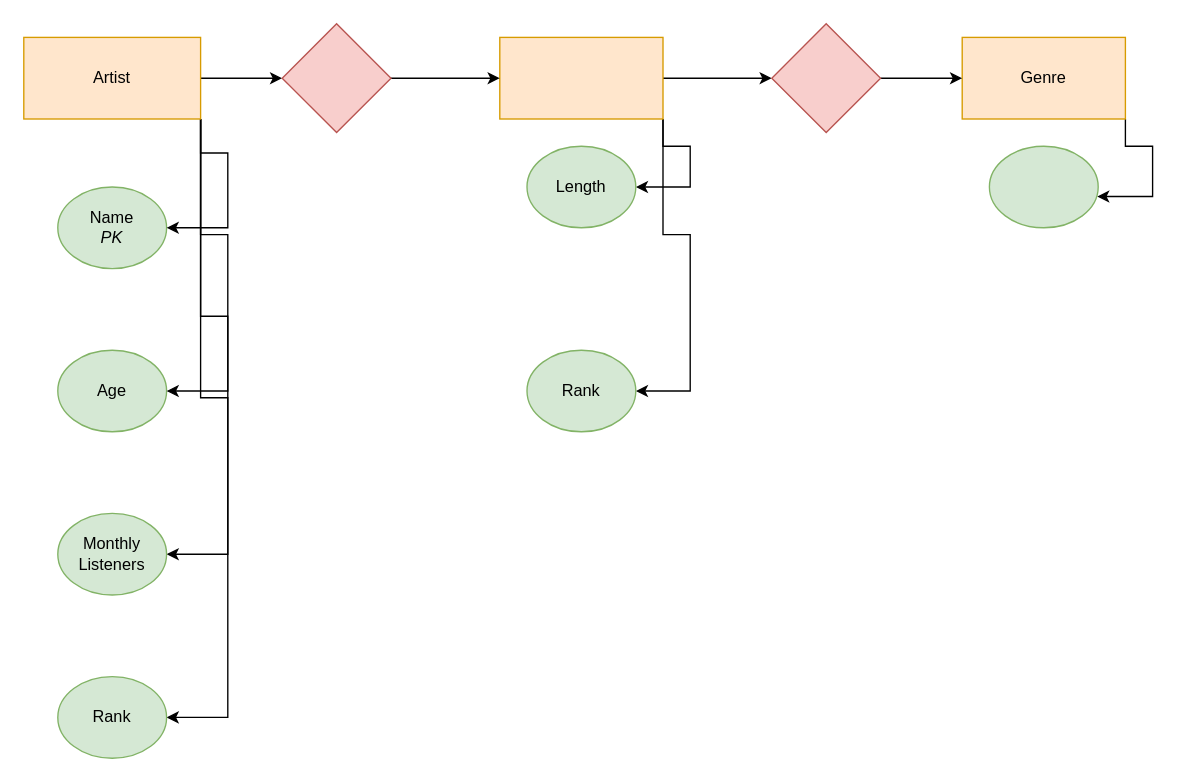
This 1187x782 diagram has some shape labels left out. Each missing label, with the box of its shape:
Contains: (770, 22, 881, 133)
Creates: (281, 22, 391, 133)
Song: (498, 36, 663, 119)
Type: (988, 145, 1098, 228)
